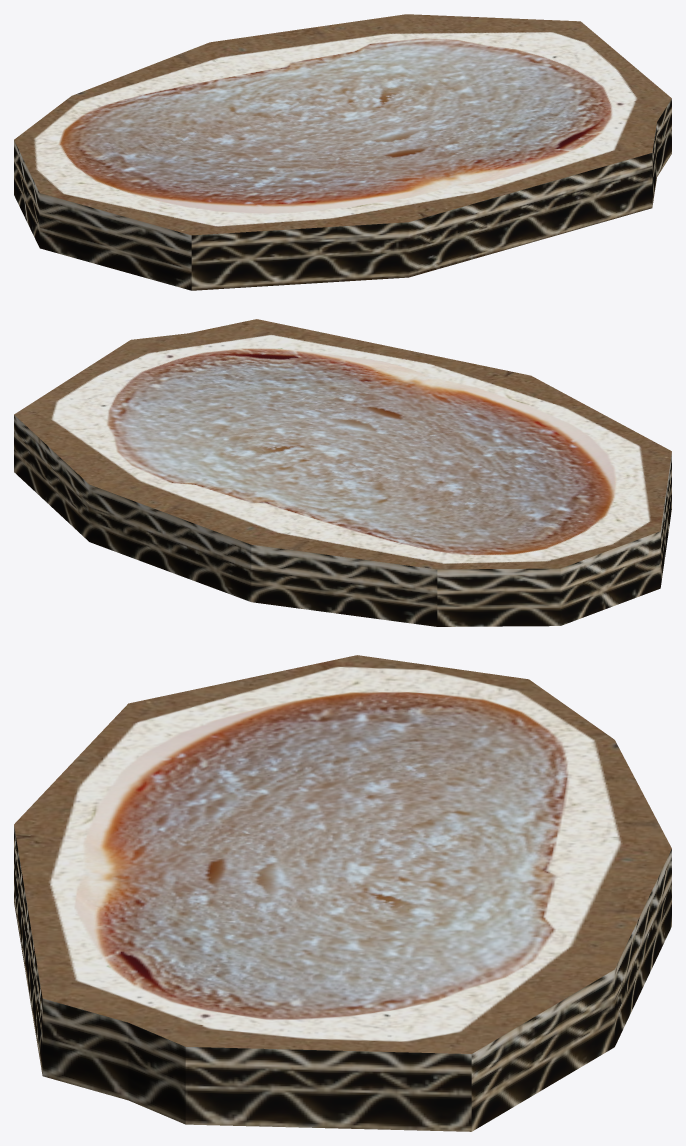
Rendered from Bread.obj.
3 views of the same model, one above another, from view 1: azimuth 30°, elevation 25°; view 2: azimuth 150°, elevation 25°; view 3: azimuth 270°, elevation 25° (orthographic). The views are drawn at different scales.
Visible parts, largest first — view 1: Plane; view 2: Plane; view 3: Plane.
Boxes of the visible parts, x1,y1,x2,y2 form: Plane: [14, 14, 671, 290]; Plane: [14, 319, 671, 626]; Plane: [14, 655, 671, 1131].
Bounding box in the file's own units: 3.3 × 0.3 × 2.3.
